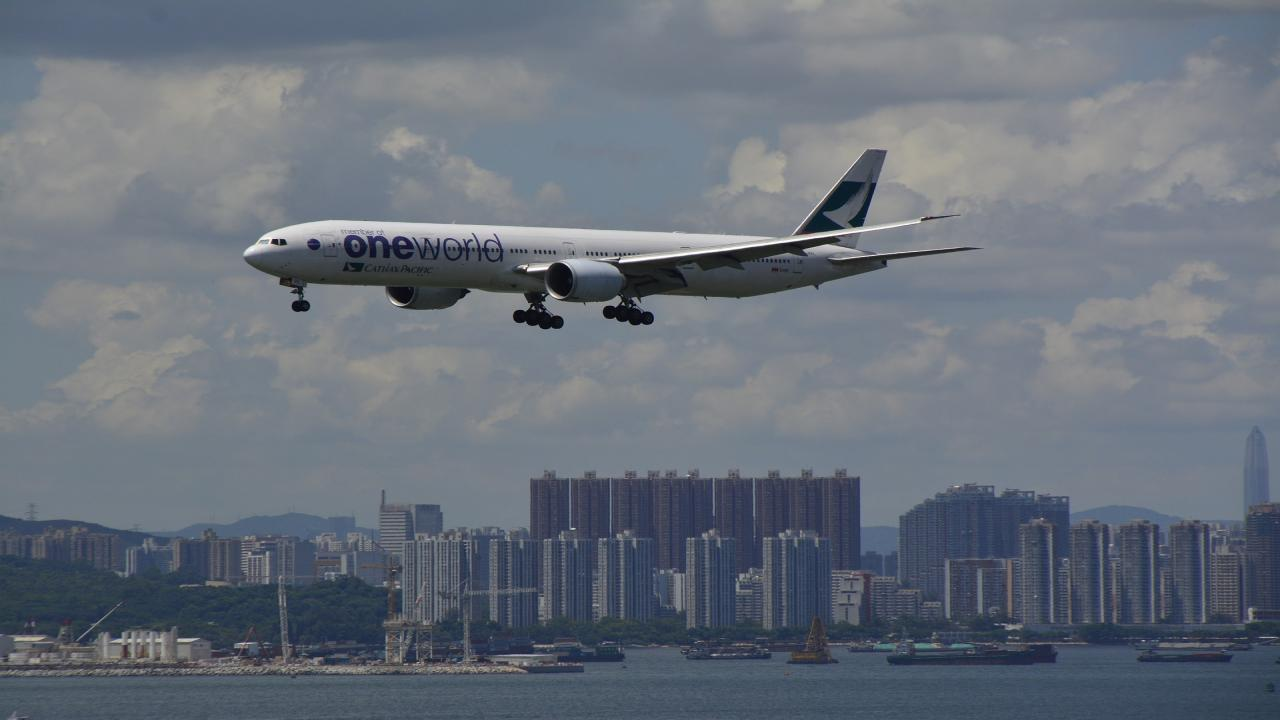Airplane: (218, 136, 1005, 342)
